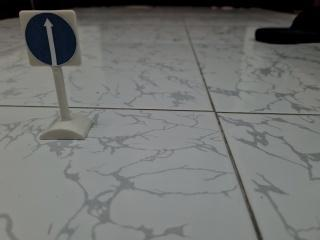straight: (18, 10, 81, 68)
